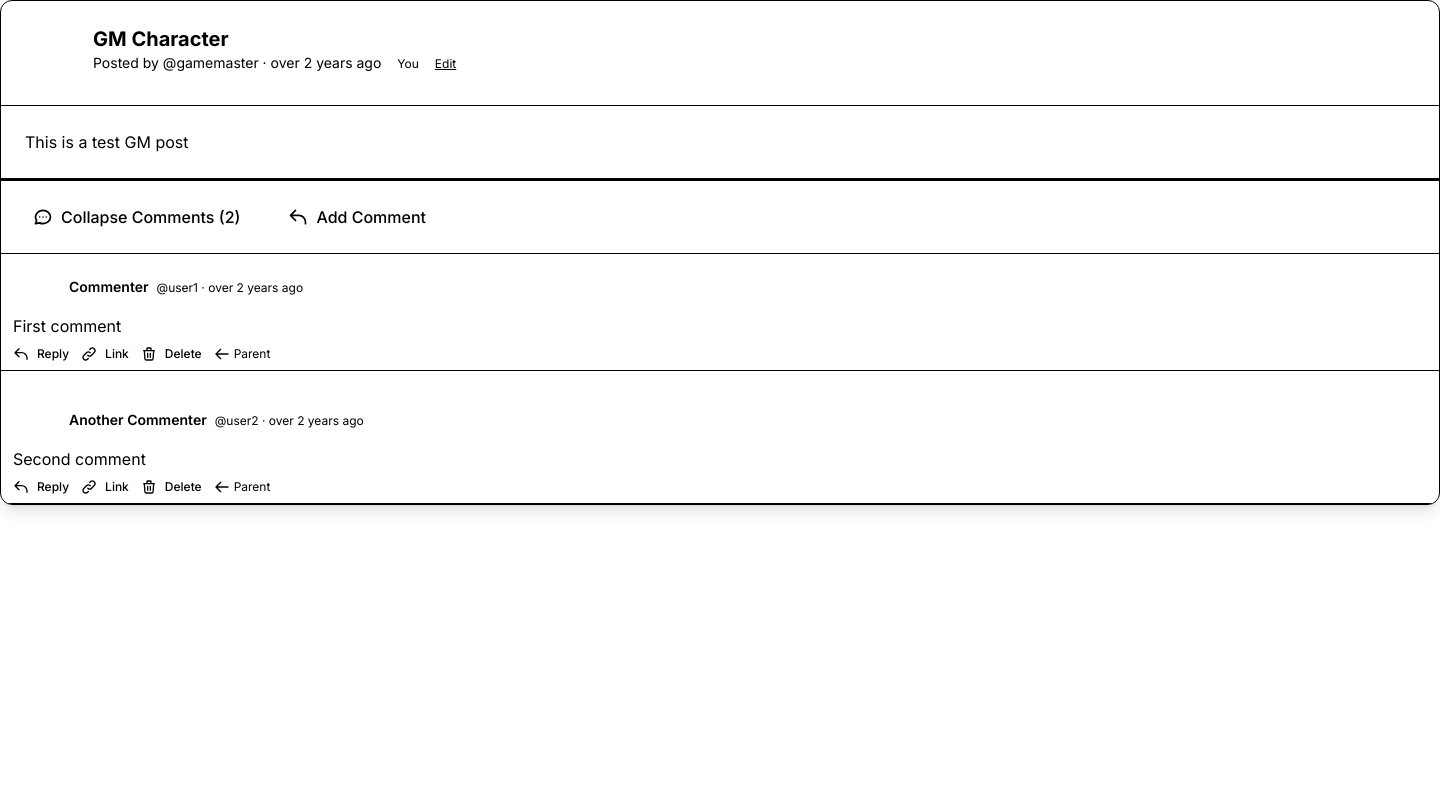
Test: PostCard › Add Comment Button › hides add comment button when comment form is open
This screenshot has width=1440, height=805.
Click the button "Add Comment". click: (357, 217)
box: [272, 197, 442, 237]
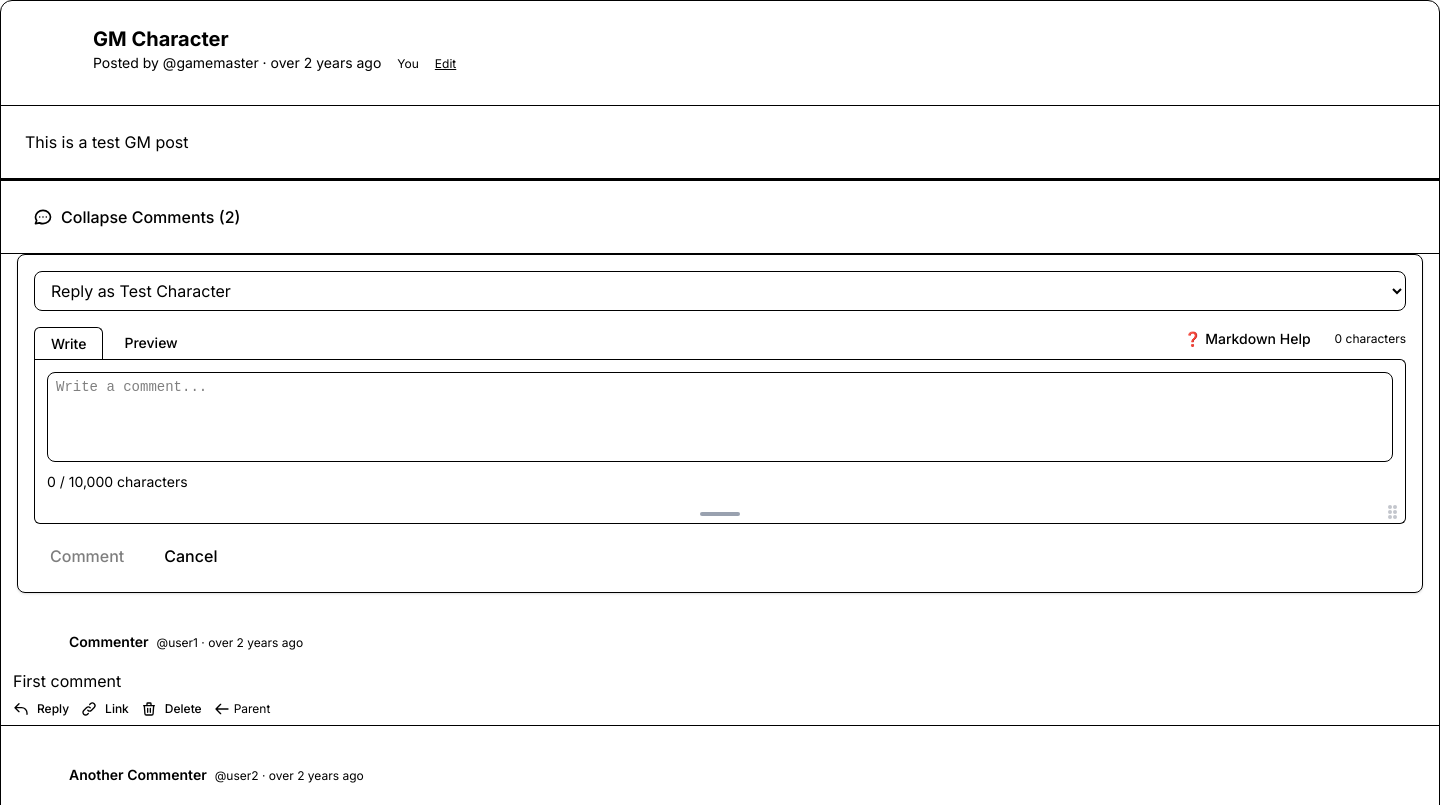
Now the button "Add Comment" is gone
